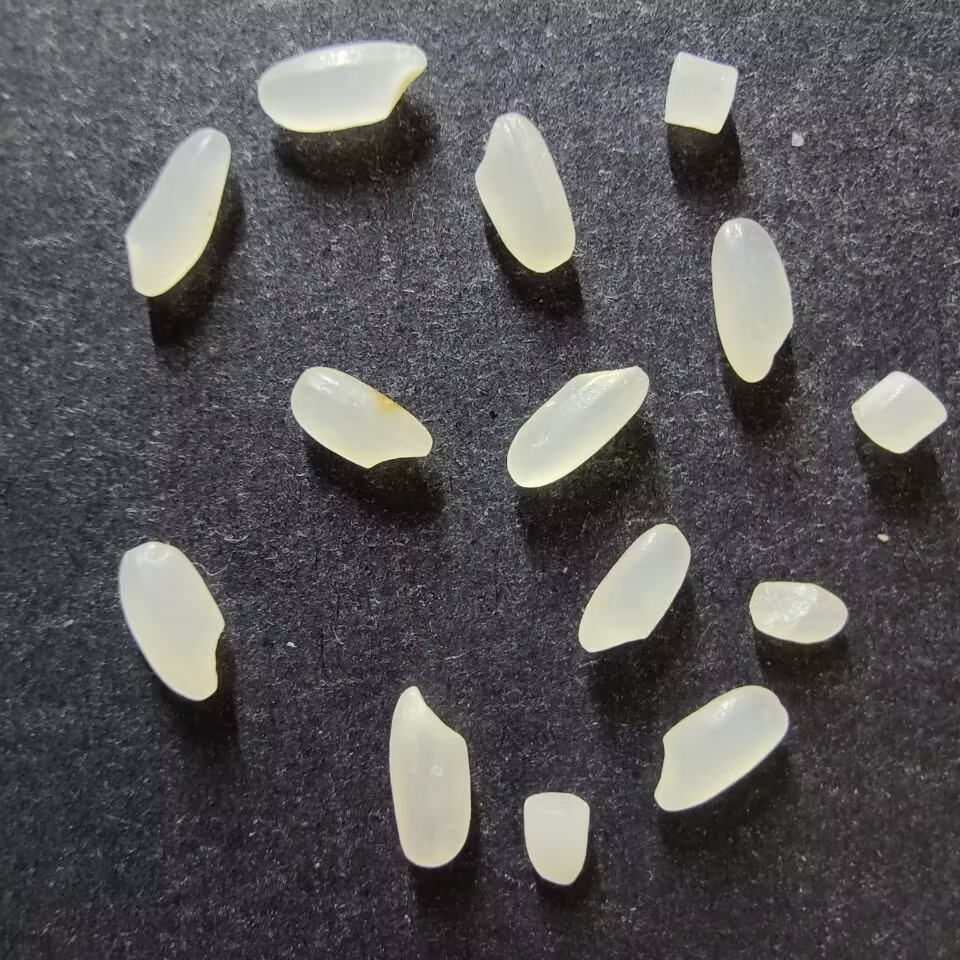broken: (851, 370, 948, 453), (523, 791, 591, 886), (748, 580, 848, 643), (663, 52, 739, 134)
rice: (126, 127, 231, 297), (506, 365, 650, 488), (653, 684, 790, 812), (118, 540, 225, 701), (473, 112, 576, 274), (257, 41, 428, 133), (388, 685, 472, 868), (577, 522, 692, 652), (290, 366, 433, 469), (710, 216, 794, 383)
